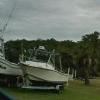Boat: (18, 51, 82, 94)
